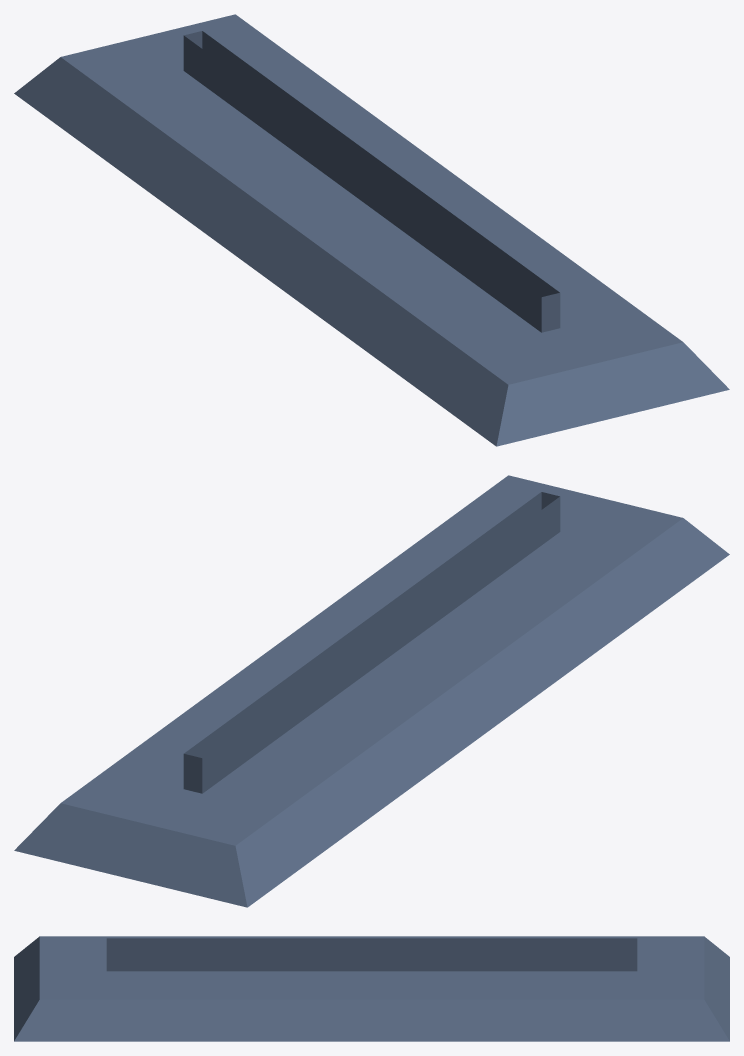
The model's file is E05_light.fbx.
The picture shows the model from 3 angles, top to bottom: view 1: azimuth 30°, elevation 25°; view 2: azimuth 150°, elevation 25°; view 3: azimuth 270°, elevation 25°; orthographic projection. The views are drawn at different scales.
Visible parts, largest first — view 1: E05_light_neon; view 2: E05_light_neon; view 3: E05_light_neon.
Part boxes in pixels (left/top/right/bottom): E05_light_neon: left=14, top=14, right=729, bottom=446; E05_light_neon: left=14, top=475, right=729, bottom=907; E05_light_neon: left=14, top=936, right=729, bottom=1041.
Bounding box in the file's own units: 35.86 × 11.5 × 128.
